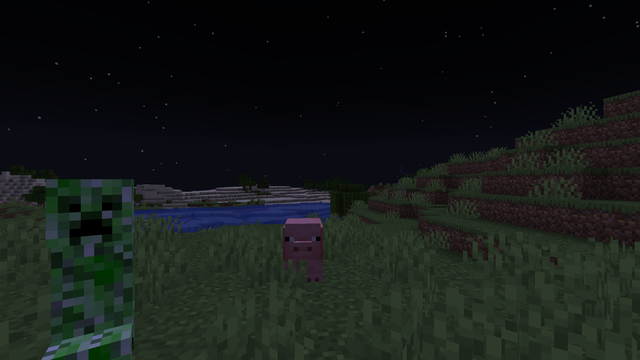cochons: (277, 216, 334, 283)
creepers: (21, 168, 151, 358)
